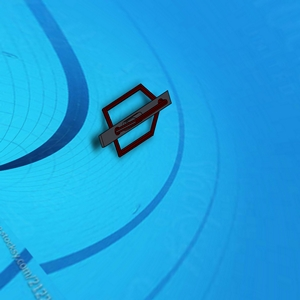submarine: (98, 83, 176, 155)
